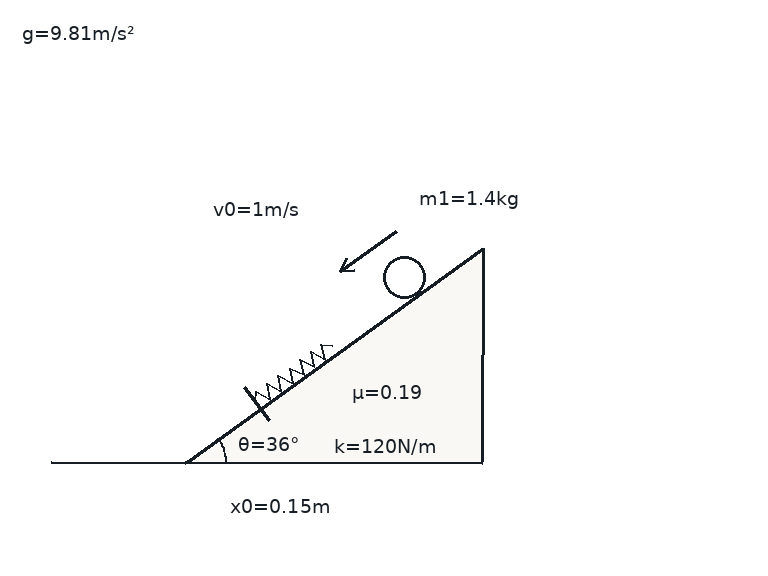ball: (381, 254, 427, 300)
ramp: (184, 245, 484, 464)
spring: (253, 341, 334, 403)
